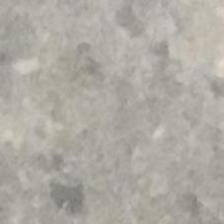Non_Crack: (17, 21, 222, 205)
